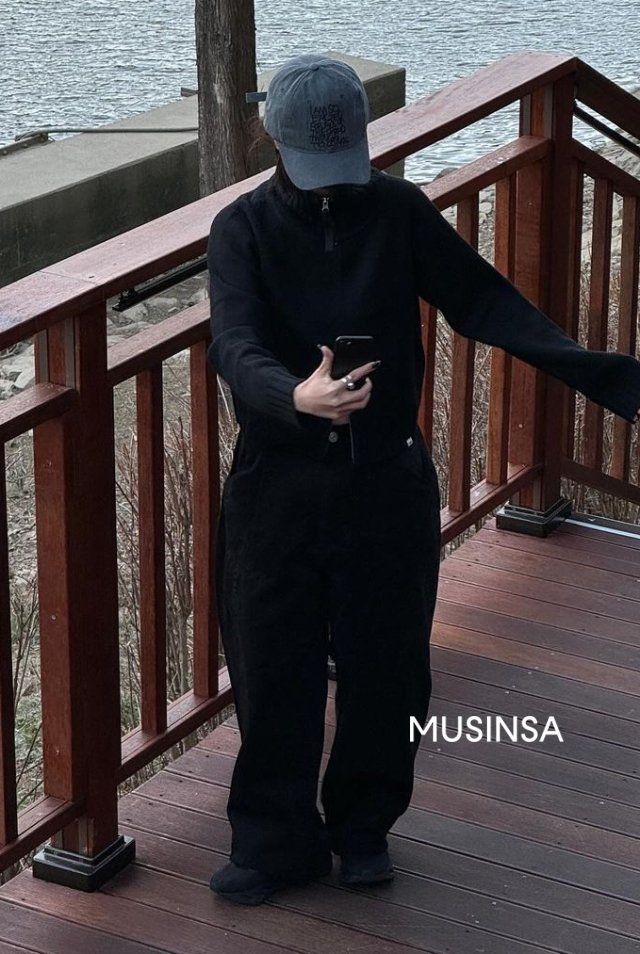Cap: (248, 50, 380, 187)
Pants: (202, 424, 436, 851)
Shoes: (202, 843, 400, 904)
Top: (202, 165, 442, 428)
